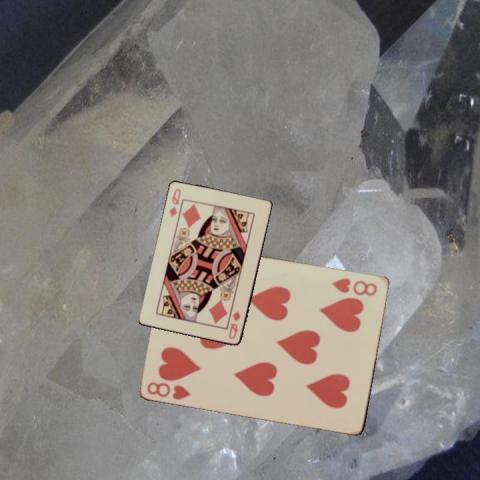8h: (330, 275, 380, 297), (144, 378, 193, 400)
Qd: (166, 186, 183, 218), (226, 308, 242, 340)
